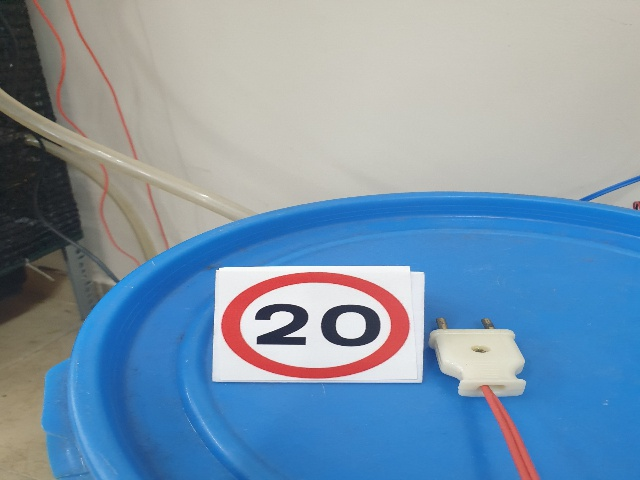Limit 20: (222, 277, 412, 378)
